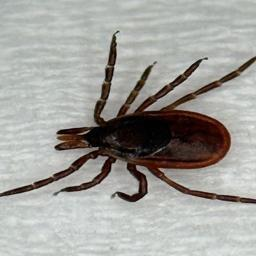Ixodes scapularis: (13, 31, 256, 213)
